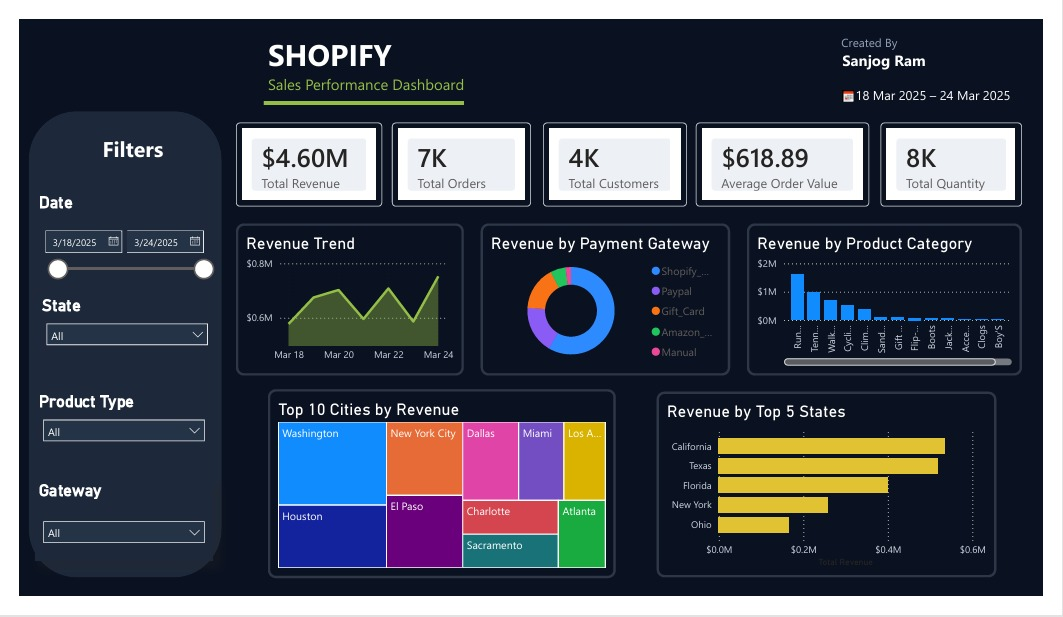

What the dashboard file says about the page in this screenshot:
{"tool":"powerbi","page":{"name":"Executive  Dashboard","canvas":[1280,720],"ordinal":0},"visuals":[{"type":"cardVisual","fields":{"Data":["KPI_Measures.Average Order Value"]},"box":[846.5,129,216.8,104.5],"z":0},{"type":"textbox","box":[306.1,14.3,367.6,114.4],"z":1000},{"type":"shape","box":[11.6,114.8,241.3,581.9],"z":2000},{"type":"textbox","box":[35.9,138.4,205.1,54.7],"z":3000},{"type":"slicer","title":"         Date","fields":{"Values":["Dim_Date.Date"]},"box":[20,217.4,231.7,117.3],"z":4000},{"type":"slicer","title":"State","fields":{"Values":["Fact_Sales.State"]},"box":[24.3,344.7,221.7,100.1],"z":5000},{"type":"slicer","title":"Product Type","fields":{"Values":["Fact_Sales.Product Type"]},"box":[20,464.8,221.7,100.1],"z":6000},{"type":"slicer","title":"Gateway","fields":{"Values":["Fact_Sales.Gateway"]},"box":[20,576.4,221.7,100.1],"z":7000},{"type":"cardVisual","fields":{"Data":["KPI_Measures.Total Customers"]},"box":[655.5,129,179.4,104.5],"z":8000},{"type":"cardVisual","fields":{"Data":["KPI_Measures.Total Orders"]},"box":[465.8,129,174.2,104.5],"z":9000},{"type":"cardVisual","fields":{"Data":["KPI_Measures.Total Quantity"]},"box":[1077.4,129,176.8,104.5],"z":10000},{"type":"cardVisual","fields":{"Data":["KPI_Measures.Total Revenue"]},"box":[271,129,183.2,104.5],"z":11000},{"type":"shape","box":[306.1,71.5,250.3,65.8],"z":12000},{"type":"lineChart","title":"Revenue Trend","fields":{"Y":["KPI_Measures.Total Revenue"],"Category":["Dim_Date.Date"]},"box":[271,255.5,285.2,189.7],"z":13000},{"type":"clusteredBarChart","title":"Revenue by Top 5 States","fields":{"Y":["KPI_Measures.Total Revenue"],"Category":["Fact_Sales.State"]},"box":[797.4,464.5,424.5,232.3],"z":14000},{"type":"donutChart","title":"Revenue by Payment Gateway","fields":{"Y":["KPI_Measures.Total Revenue"],"Category":["Fact_Sales.Gateway"]},"box":[576.8,255.5,312.3,189.7],"z":15000},{"type":"clusteredColumnChart","title":"Revenue by Product Category","fields":{"Y":["KPI_Measures.Total Revenue"],"Category":["Fact_Sales.Product Type"]},"box":[909.7,255.5,344.5,189.7],"z":16000},{"type":"treemap","title":"Top 10 Cities by Revenue","fields":{"Values":["KPI_Measures.Total Revenue"],"Group":["Fact_Sales.City"]},"box":[311,461.9,434.8,236.1],"z":17000},{"type":"textbox","box":[1019.4,14.2,234.8,108.4],"z":18000}]}

Visuals, with their boxes on the page's 1280x720 design canvas (x1, y1, x2, y2). These are canvas units, not pixel positions in the 1063x617 screenshot, which may show the page scaled, cropped or inside an application window:
cardVisual - KPI_Measures.Average Order Value: 846:129:1063:234
textbox: 306:14:674:129
shape: 12:115:253:697
textbox: 36:138:241:193
"         Date" slicer: 20:217:252:335
"State" slicer: 24:345:246:445
"Product Type" slicer: 20:465:242:565
"Gateway" slicer: 20:576:242:676
cardVisual - KPI_Measures.Total Customers: 656:129:835:234
cardVisual - KPI_Measures.Total Orders: 466:129:640:234
cardVisual - KPI_Measures.Total Quantity: 1077:129:1254:234
cardVisual - KPI_Measures.Total Revenue: 271:129:454:234
shape: 306:72:556:137
"Revenue Trend" lineChart: 271:256:556:445
"Revenue by Top 5 States" clusteredBarChart: 797:464:1222:697
"Revenue by Payment Gateway" donutChart: 577:256:889:445
"Revenue by Product Category" clusteredColumnChart: 910:256:1254:445
"Top 10 Cities by Revenue" treemap: 311:462:746:698
textbox: 1019:14:1254:123
